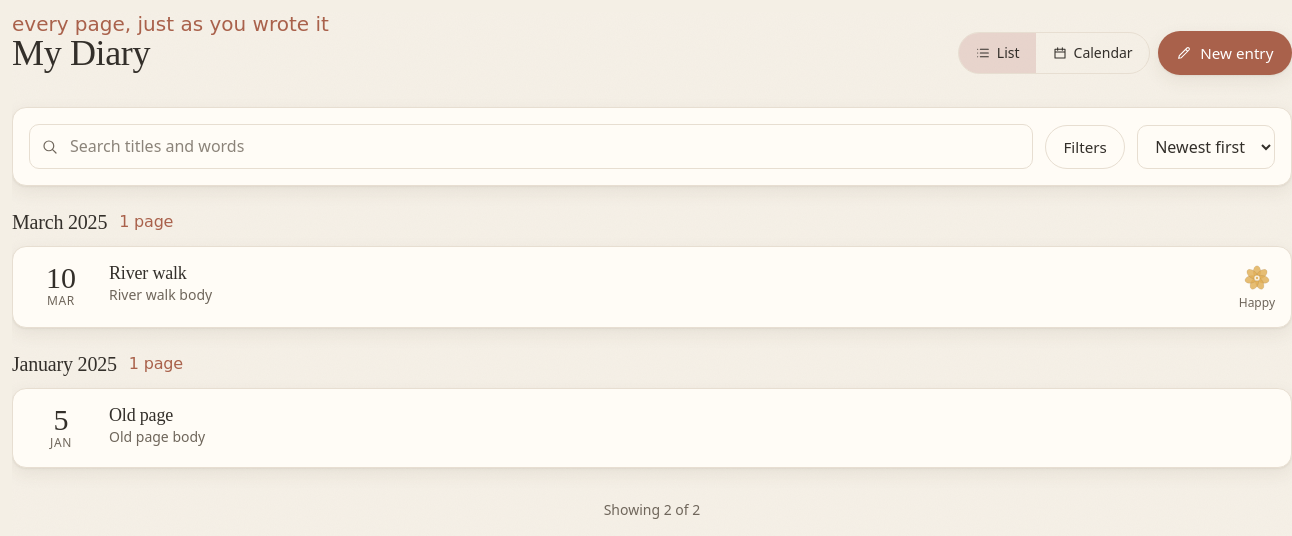
Diary archive › searches, shows a helpful empty state, and clears the search
The width and height of the screenshot is (1292, 536).
Check: the heading "River walk" is shown, box [109,263,187,285]
Type "zzz" into the search field named "Search your entries" at coordinates (531, 147), box [29,124,1033,169]
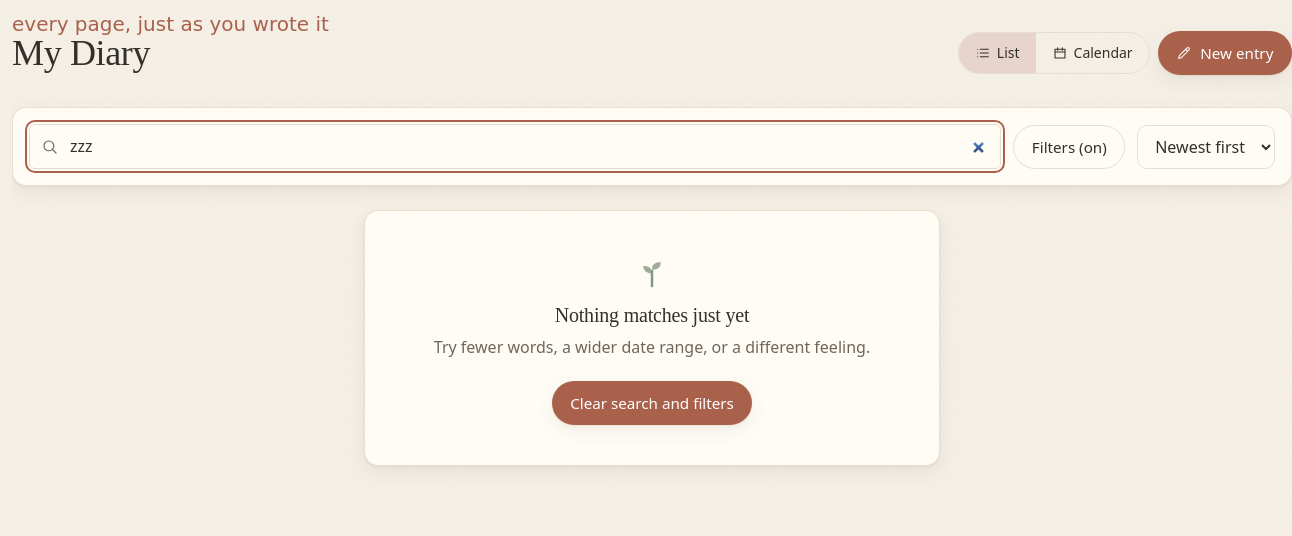
Check: the heading "Nothing matches just yet" is shown, box [555,304,749,326]
Click the button "Clear search and filters" at coordinates (652, 403), box [552,381,752,425]
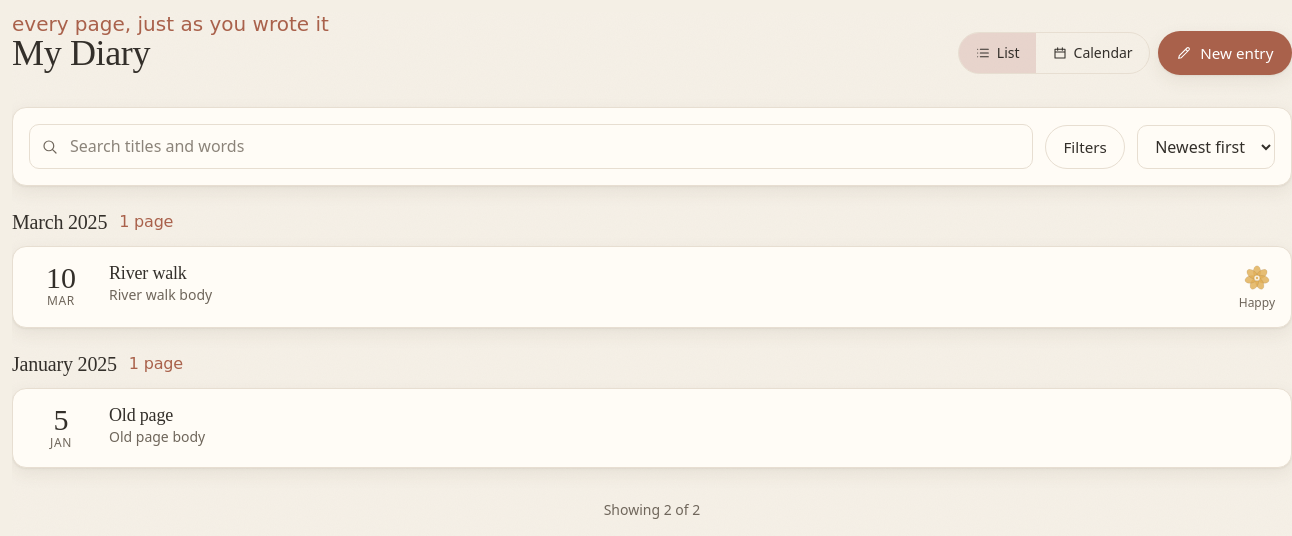
Check: the heading "River walk" is shown, box [109,263,187,285]
